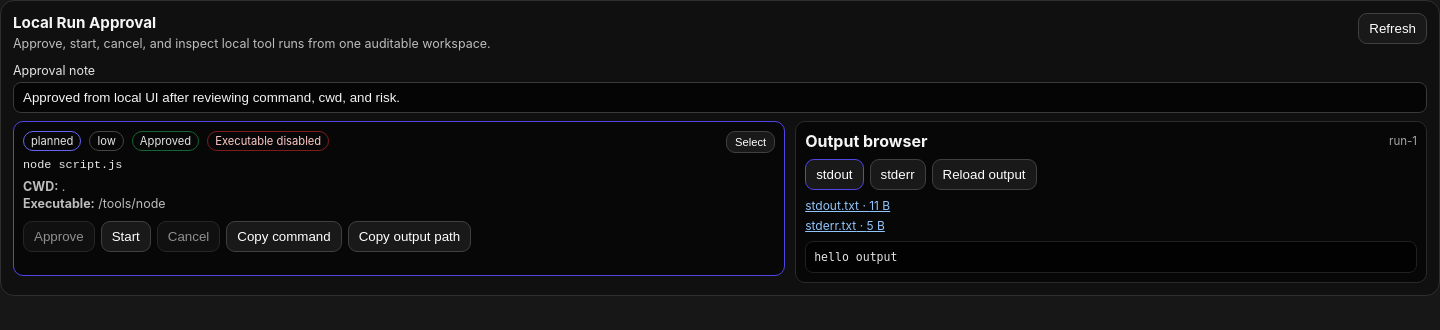
Test: LocalRunApprovalPanel › renders polished run state, output browser, links, and copy actions
expect the text "node script.js" is shown: met, box [23,158,122,172]
expect the text "Executable disabled" is shown: met, box [207,131,329,151]
Click the button "stderr": (898, 174) [870,159,926,190]
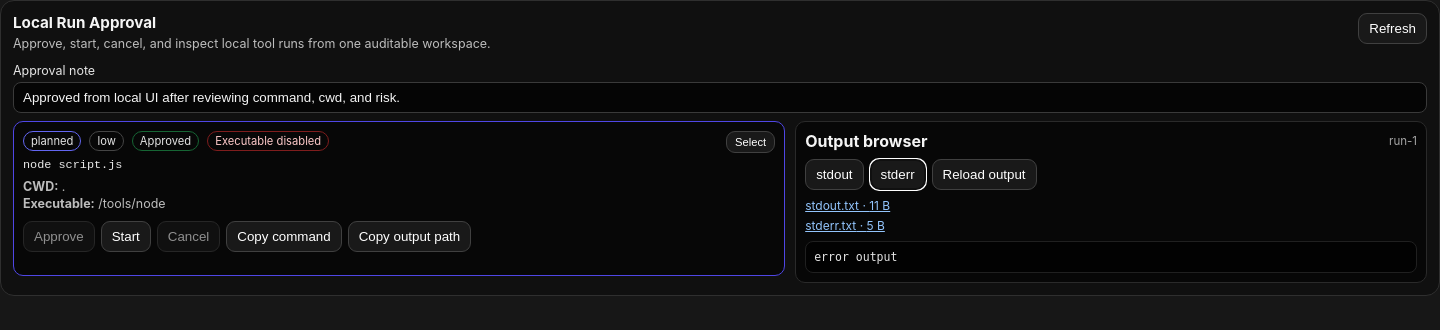
expect the text "error output" is shown: met, box [805,241,1417,273]
Click the button "Copy command": (284, 236) [226,220,342,252]
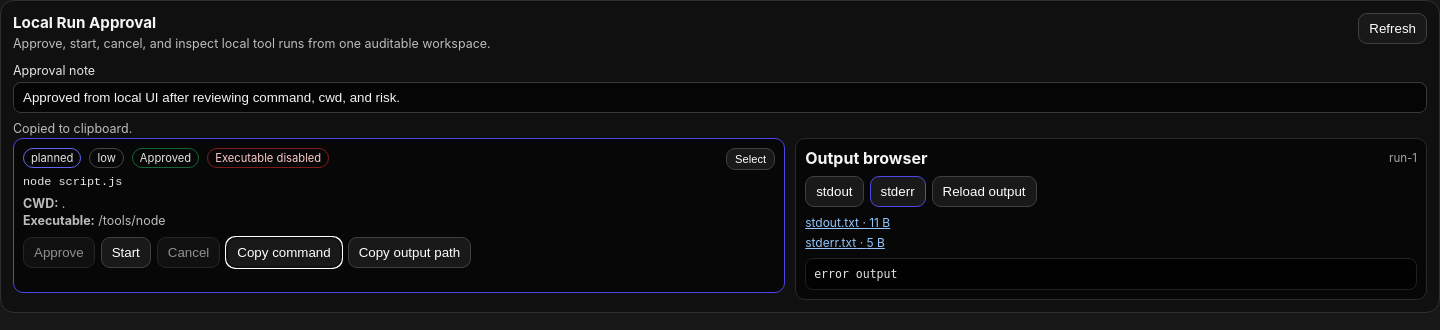
expect the message shows "Copied to clipboard": met, box [13,121,132,136]
